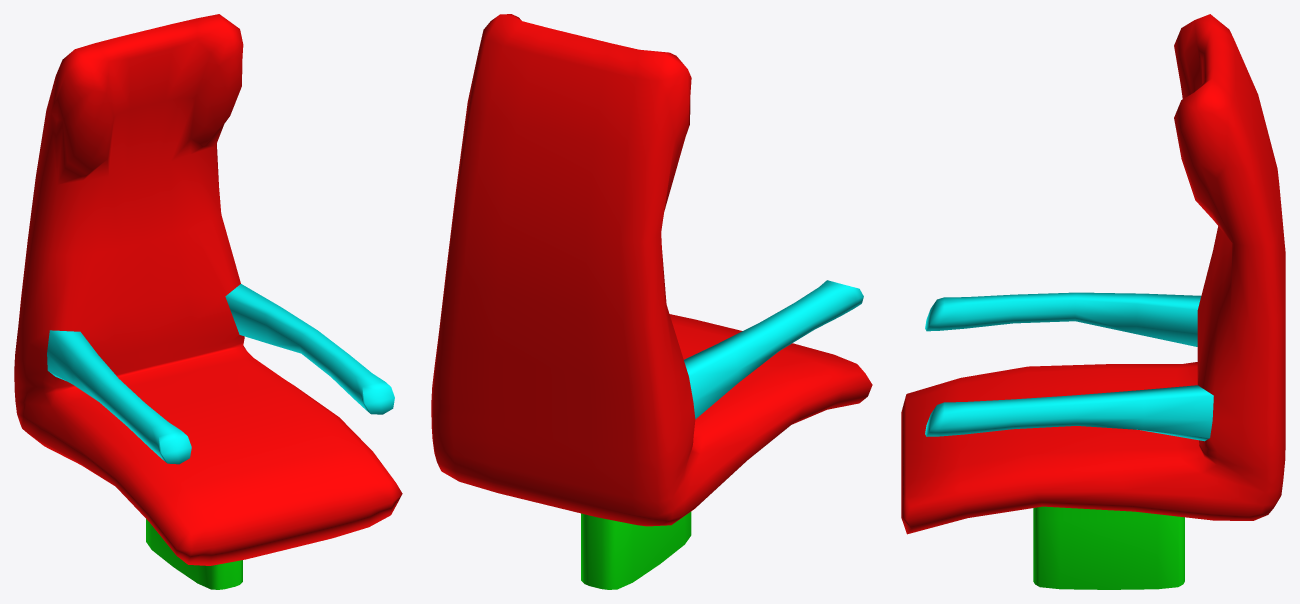
The model's file is siège.fbx.
3 renders of one model, left to right at view 1: azimuth 30°, elevation 25°; view 2: azimuth 150°, elevation 25°; view 3: azimuth 270°, elevation 25°, orthographic. The views are drawn at different scales.
Visible parts, largest first — view 1: polySurface8, polySurface7, polySurface4; view 2: polySurface8, polySurface7, polySurface4; view 3: polySurface8, polySurface7, polySurface4.
Boxes of the visible parts, bbox=[...] form: polySurface8: bbox=[14, 14, 402, 565]; polySurface7: bbox=[47, 284, 394, 464]; polySurface4: bbox=[146, 519, 242, 589]; polySurface8: bbox=[431, 14, 872, 526]; polySurface7: bbox=[684, 280, 863, 419]; polySurface4: bbox=[581, 511, 691, 589]; polySurface8: bbox=[901, 14, 1285, 534]; polySurface7: bbox=[925, 292, 1213, 441]; polySurface4: bbox=[1033, 506, 1184, 589].
Size of the model in its own units: 1.89 by 3.84 by 2.54.
